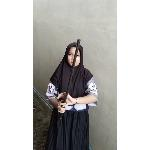Pedang: (56, 37, 84, 121)
